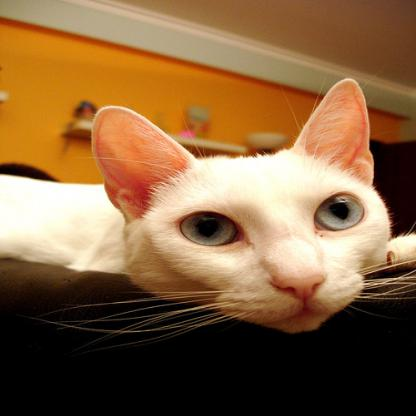cat: (76, 70, 396, 344)
